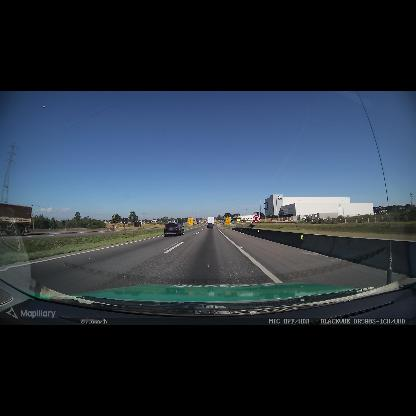R-24a: (253, 215, 260, 222)
